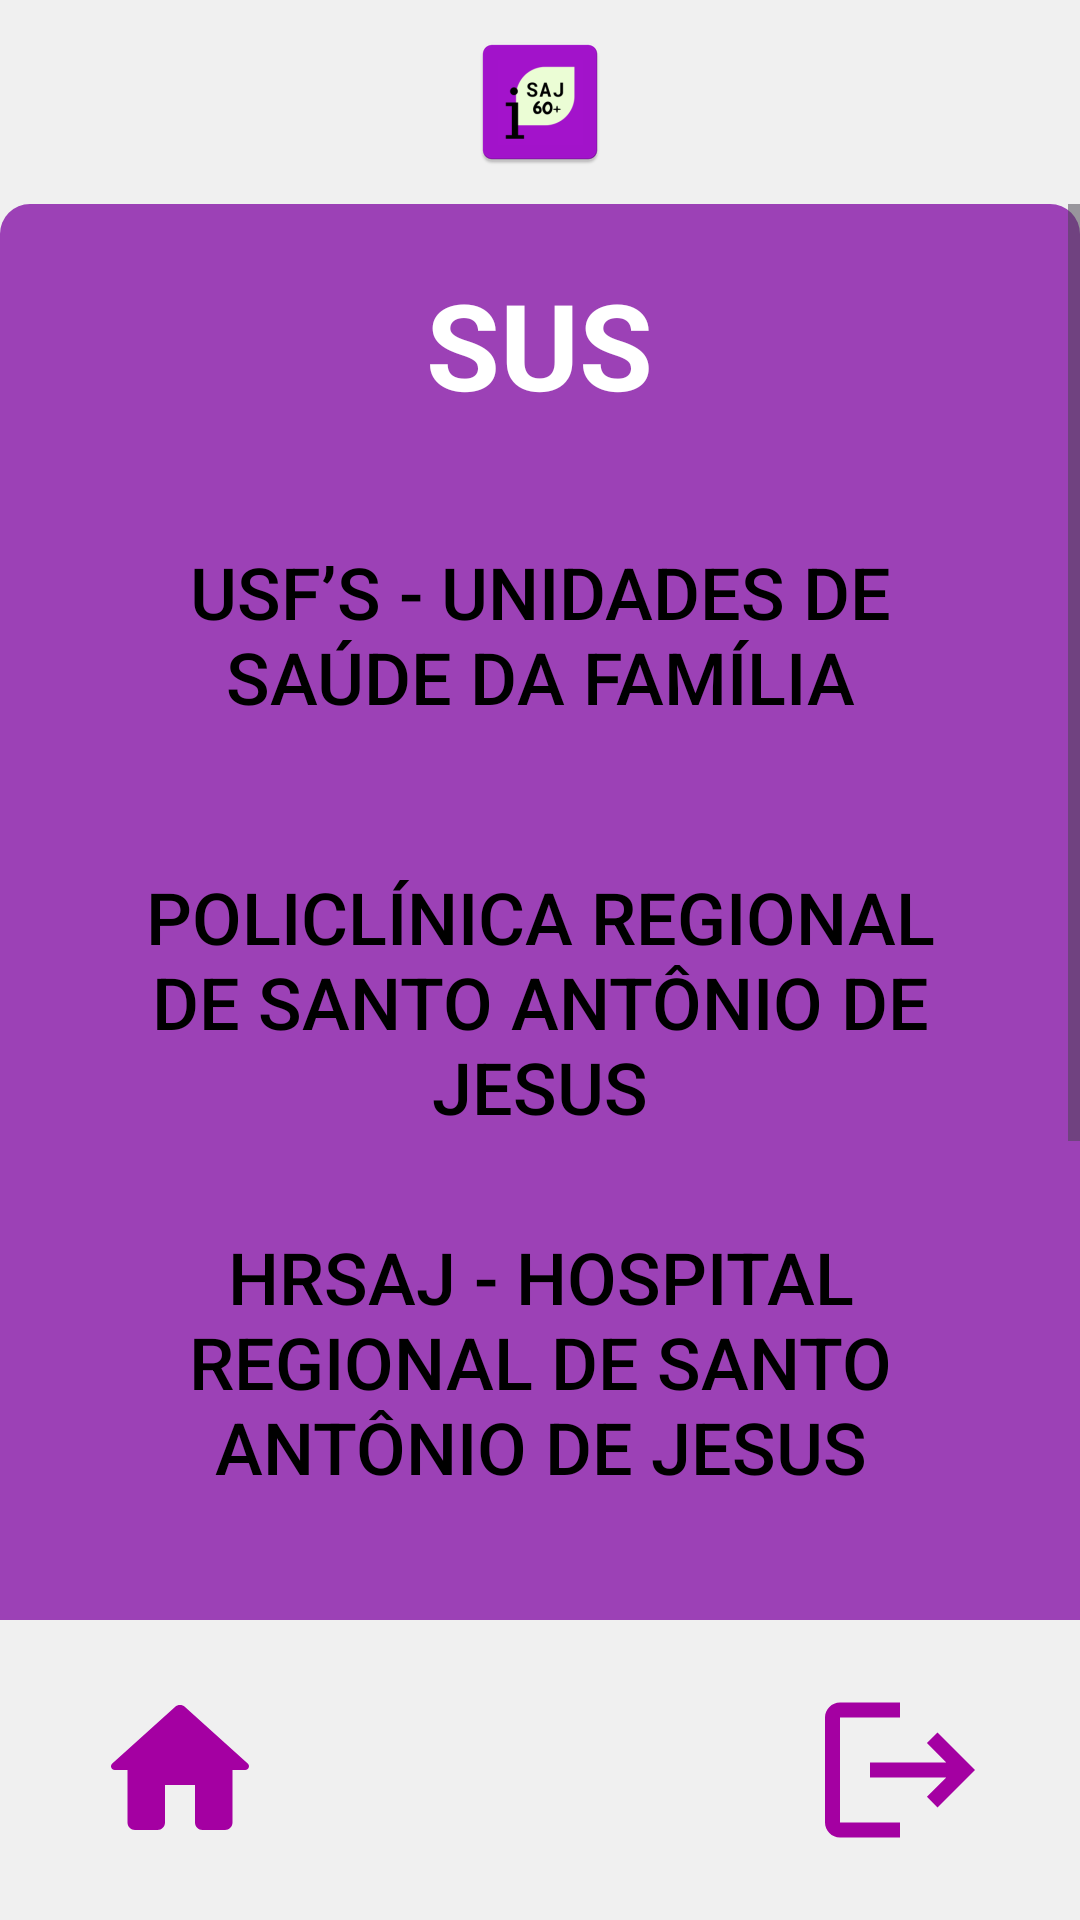

Icon click points for this 1080*1920 phone screenshot, format [x,y]:
home: [180,1767]
